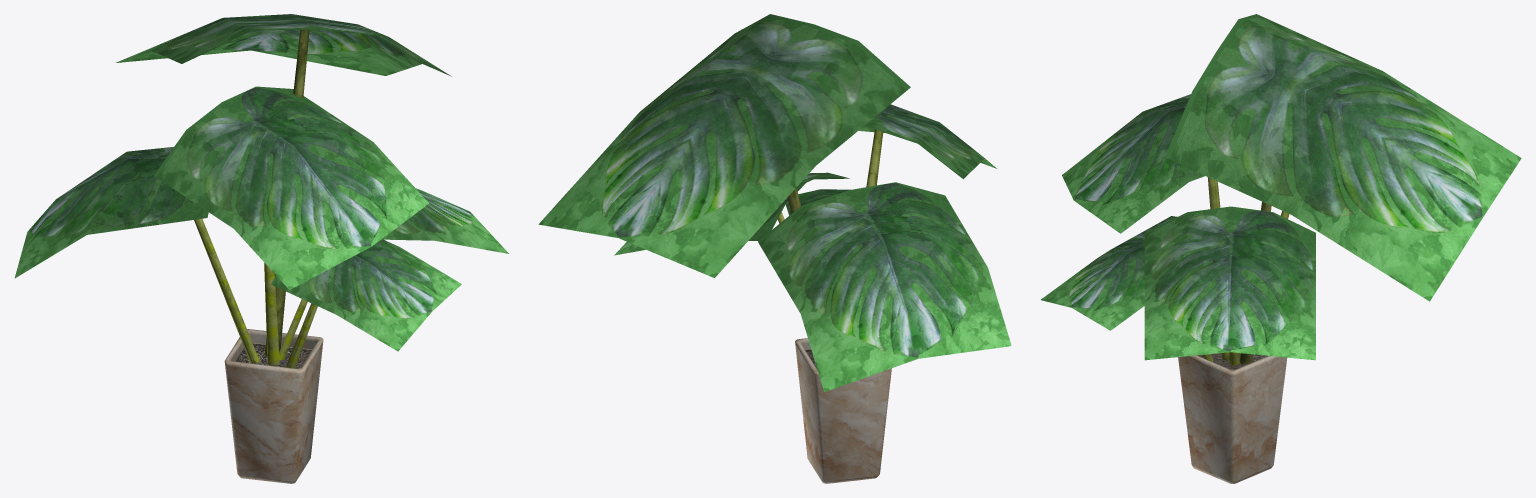
File: Furniture_foliageplant_03_LOD1 #39142.fbx
3 renders of one model, left to right at view 1: azimuth 30°, elevation 25°; view 2: azimuth 150°, elevation 25°; view 3: azimuth 270°, elevation 25°, orthographic.
Visible parts, largest first — view 1: F_foliageplant_03_2, F_foliageplant_03_1; view 2: F_foliageplant_03_2, F_foliageplant_03_1; view 3: F_foliageplant_03_2, F_foliageplant_03_1.
Boxes of the visible parts, box(x1,y1,x2,y2) form: F_foliageplant_03_2: box(14, 14, 508, 368); F_foliageplant_03_1: box(224, 329, 323, 483); F_foliageplant_03_2: box(538, 14, 1011, 391); F_foliageplant_03_1: box(795, 338, 891, 483); F_foliageplant_03_2: box(1041, 14, 1521, 365); F_foliageplant_03_1: box(1178, 353, 1287, 483).
Size of the model in its own units: 0.6292 by 0.623 by 0.618.
2 materials, 2 textured.
